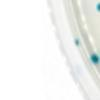Blue_green: (88, 50, 100, 65), (70, 36, 81, 48), (92, 1, 100, 13)
